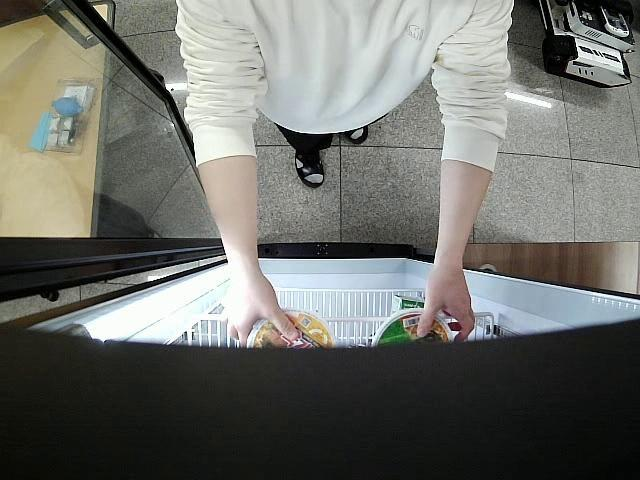09_yukGaeJang: (246, 308, 340, 351), (372, 306, 455, 346)
